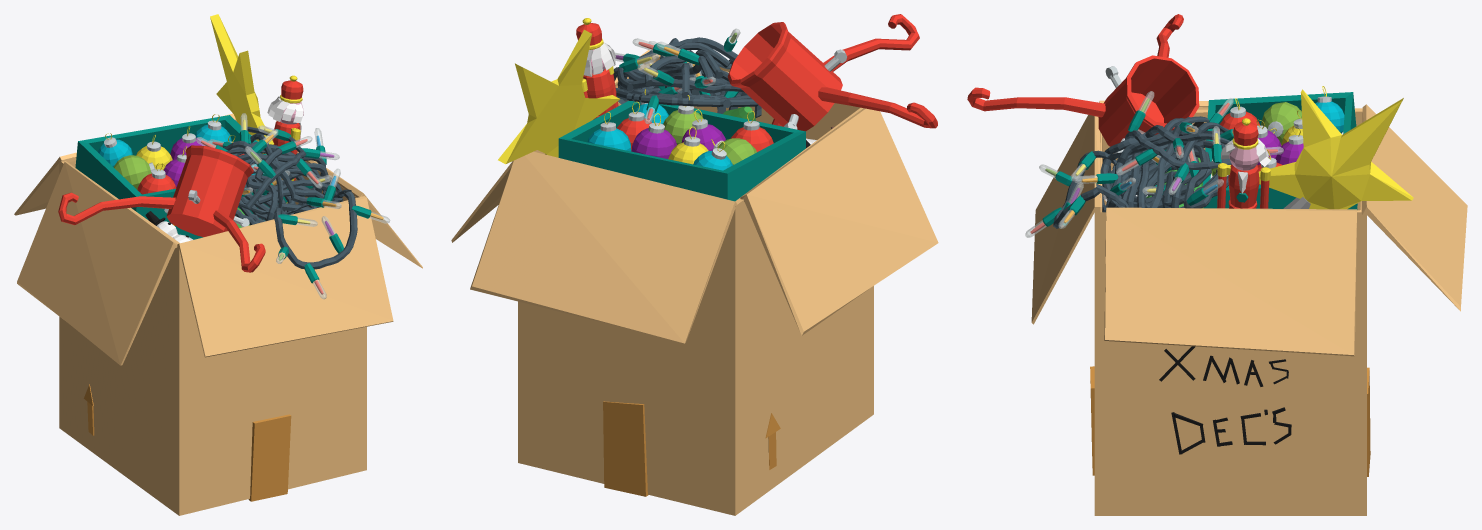
File: Christmas Decorations.glb
3 renders of one model, left to right at view 1: azimuth 30°, elevation 25°; view 2: azimuth 150°, elevation 25°; view 3: azimuth 270°, elevation 25°, orthographic. The views are drawn at different scales.
Parts seen in each view (by area): view 1: group1740953758, group1592993486, group181670252, group1471033406, group1166730895, group830120448, group2000381243, group1953694528, group602426045, group1529484225, group1526678614, group369189182 (+1 smaller); view 2: group1740953758, group1526678614, group181670252, group1471033406, group1166730895, group2000381243, group1342194963, group1953694528, group1529484225; view 3: group1740953758, group1529484225, group1526678614, group2000381243, group1166730895, group1471033406, group1592993486, group1953694528, group602426045.
Part boxes in pixels (x1,y1,x2,y2): group1740953758: [59, 119, 366, 515]; group1592993486: [177, 196, 393, 357]; group181670252: [17, 162, 177, 365]; group1471033406: [75, 114, 287, 239]; group1166730895: [58, 145, 265, 272]; group830120448: [248, 414, 291, 501]; group2000381243: [210, 14, 273, 144]; group1953694528: [267, 75, 303, 203]; group602426045: [273, 190, 357, 269]; group1529484225: [265, 126, 422, 268]; group1526678614: [14, 113, 235, 215]; group369189182: [246, 154, 301, 209]; group1740953758: [518, 54, 873, 515]; group1526678614: [470, 151, 736, 343]; group181670252: [740, 108, 938, 335]; group1471033406: [558, 89, 805, 201]; group1166730895: [727, 14, 937, 131]; group2000381243: [498, 29, 620, 164]; group1342194963: [603, 401, 648, 496]; group1953694528: [576, 18, 618, 119]; group1529484225: [451, 50, 652, 242]; group1740953758: [1094, 108, 1366, 515]; group1529484225: [1104, 207, 1356, 356]; group1526678614: [1361, 104, 1467, 311]; group2000381243: [1258, 89, 1413, 209]; group1166730895: [967, 14, 1199, 153]; group1471033406: [1202, 86, 1357, 209]; group1592993486: [1031, 115, 1100, 324]; group1953694528: [1217, 118, 1270, 208]; group602426045: [1053, 150, 1124, 228].
Bounding box in the file's own units: 3.02 × 3.11 × 3.42.
